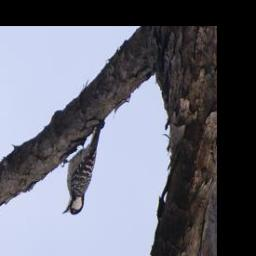Woodpecker: (58, 114, 109, 222)
